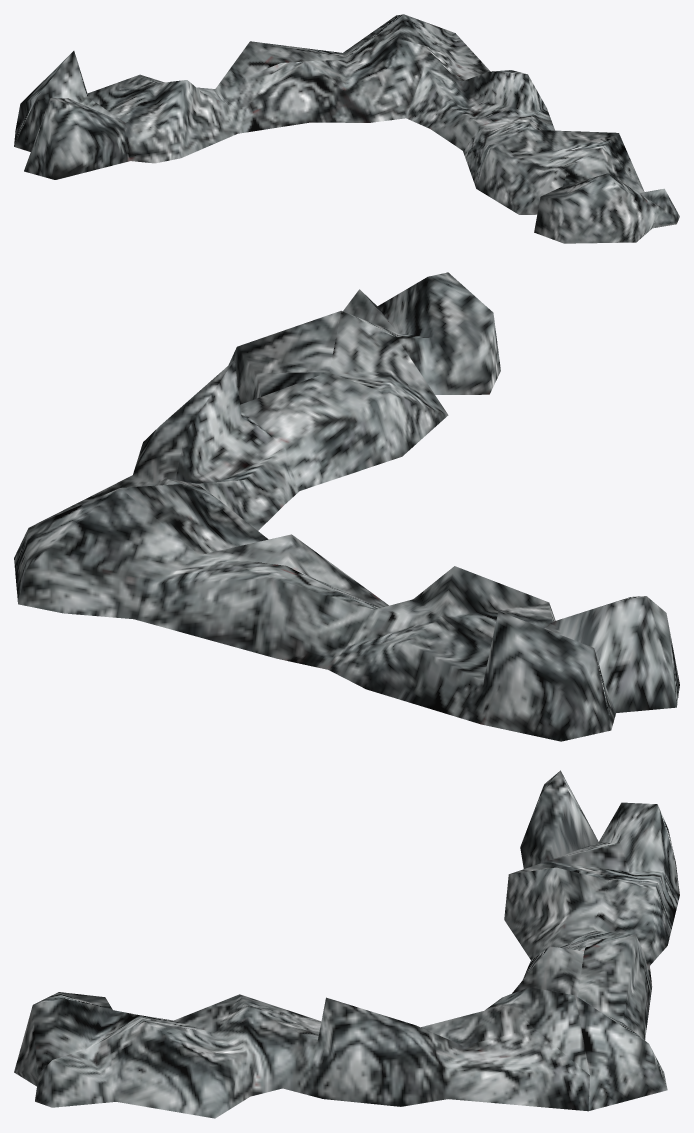
File: STR_WallBoulderD.FBX
3 views of the same model, one above another, from view 1: azimuth 30°, elevation 25°; view 2: azimuth 150°, elevation 25°; view 3: azimuth 270°, elevation 25° (orthographic). The views are drawn at different scales.
Visible parts, largest first — view 1: STR_WallBoulderD; view 2: STR_WallBoulderD; view 3: STR_WallBoulderD.
Part boxes in pixels (<box>): STR_WallBoulderD: <box>14,14,679,243</box>; STR_WallBoulderD: <box>14,272,679,741</box>; STR_WallBoulderD: <box>14,770,679,1118</box>.
Size of the model in its own units: 1463 by 220 by 1485.
1 material, 1 textured.
